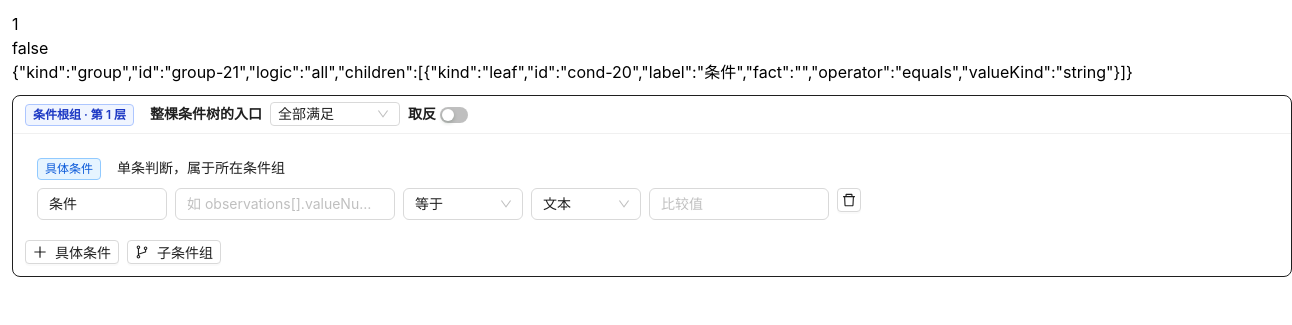
Test: ConditionTreeEditor（P1-2 递归条件树组件） › 字段路径从目录选择后自动带出值类型与字典比较值选择器
The width and height of the screenshot is (1292, 325).
Step 1. Type "检验编码" into the dropdown named "上下文字段路径" → point(285, 204), box [187,188,383,218]
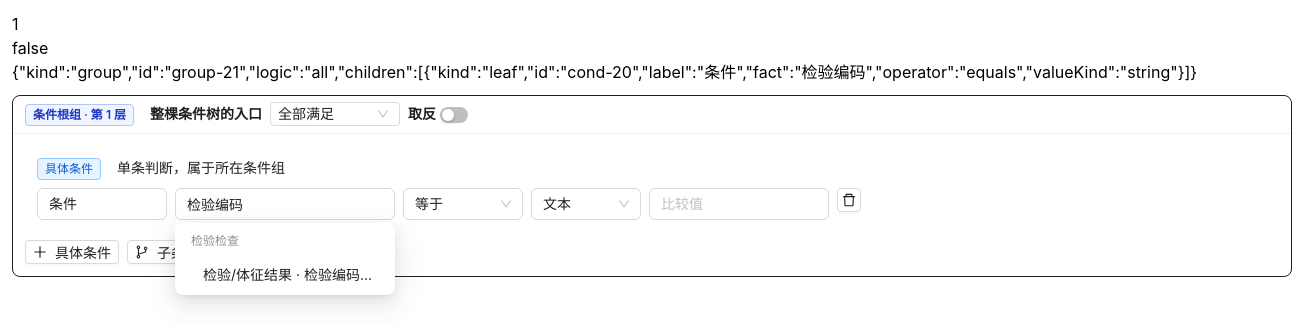
Step 2. Click the text "检验/体征结果 · 检验编码（observations[].code） · 字典 LOINC" → point(291, 275), box [203,264,379,286]
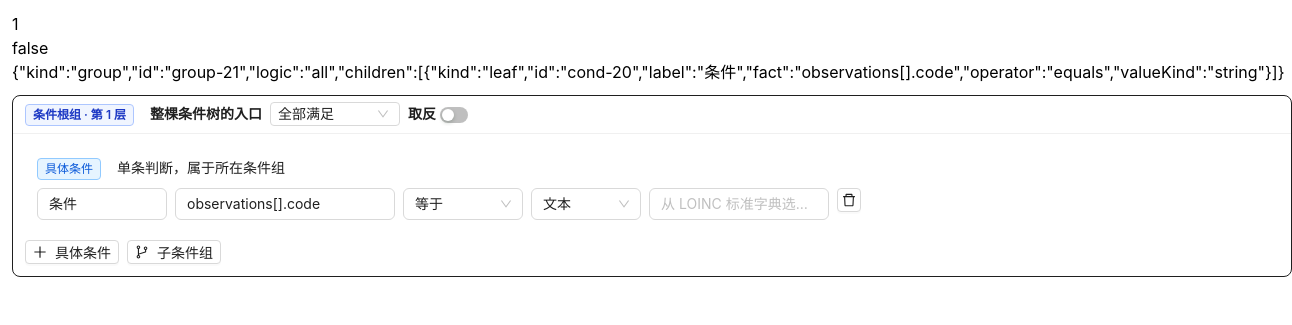
Expected: the text with test id "tree-json" shows "\"valueKind\":\"string\"", [12,62,1284,82]
Expected: the text with test id "tree-json" shows "\"fact\":\"observations[].code\"", [12,62,1284,82]
Expected: the dropdown named "比较值" is shown, [661,188,817,218]
